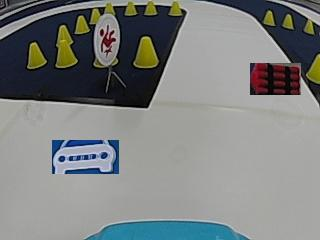cone: (134, 35, 159, 69), (55, 41, 77, 68), (26, 42, 45, 69), (305, 52, 319, 84), (74, 14, 89, 34), (262, 9, 275, 26), (168, 1, 182, 16), (144, 0, 157, 16), (124, 1, 137, 16), (282, 13, 294, 29), (303, 19, 314, 35), (103, 2, 115, 15), (89, 8, 99, 23)
tumble: (96, 18, 120, 58)
